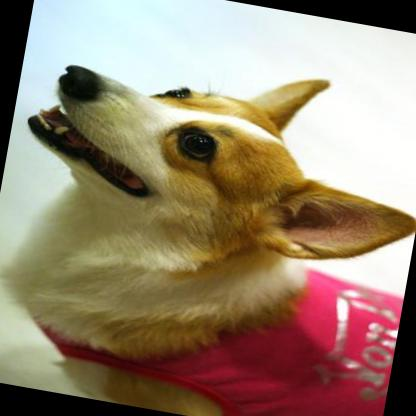Pembroke: (0, 27, 416, 416)
